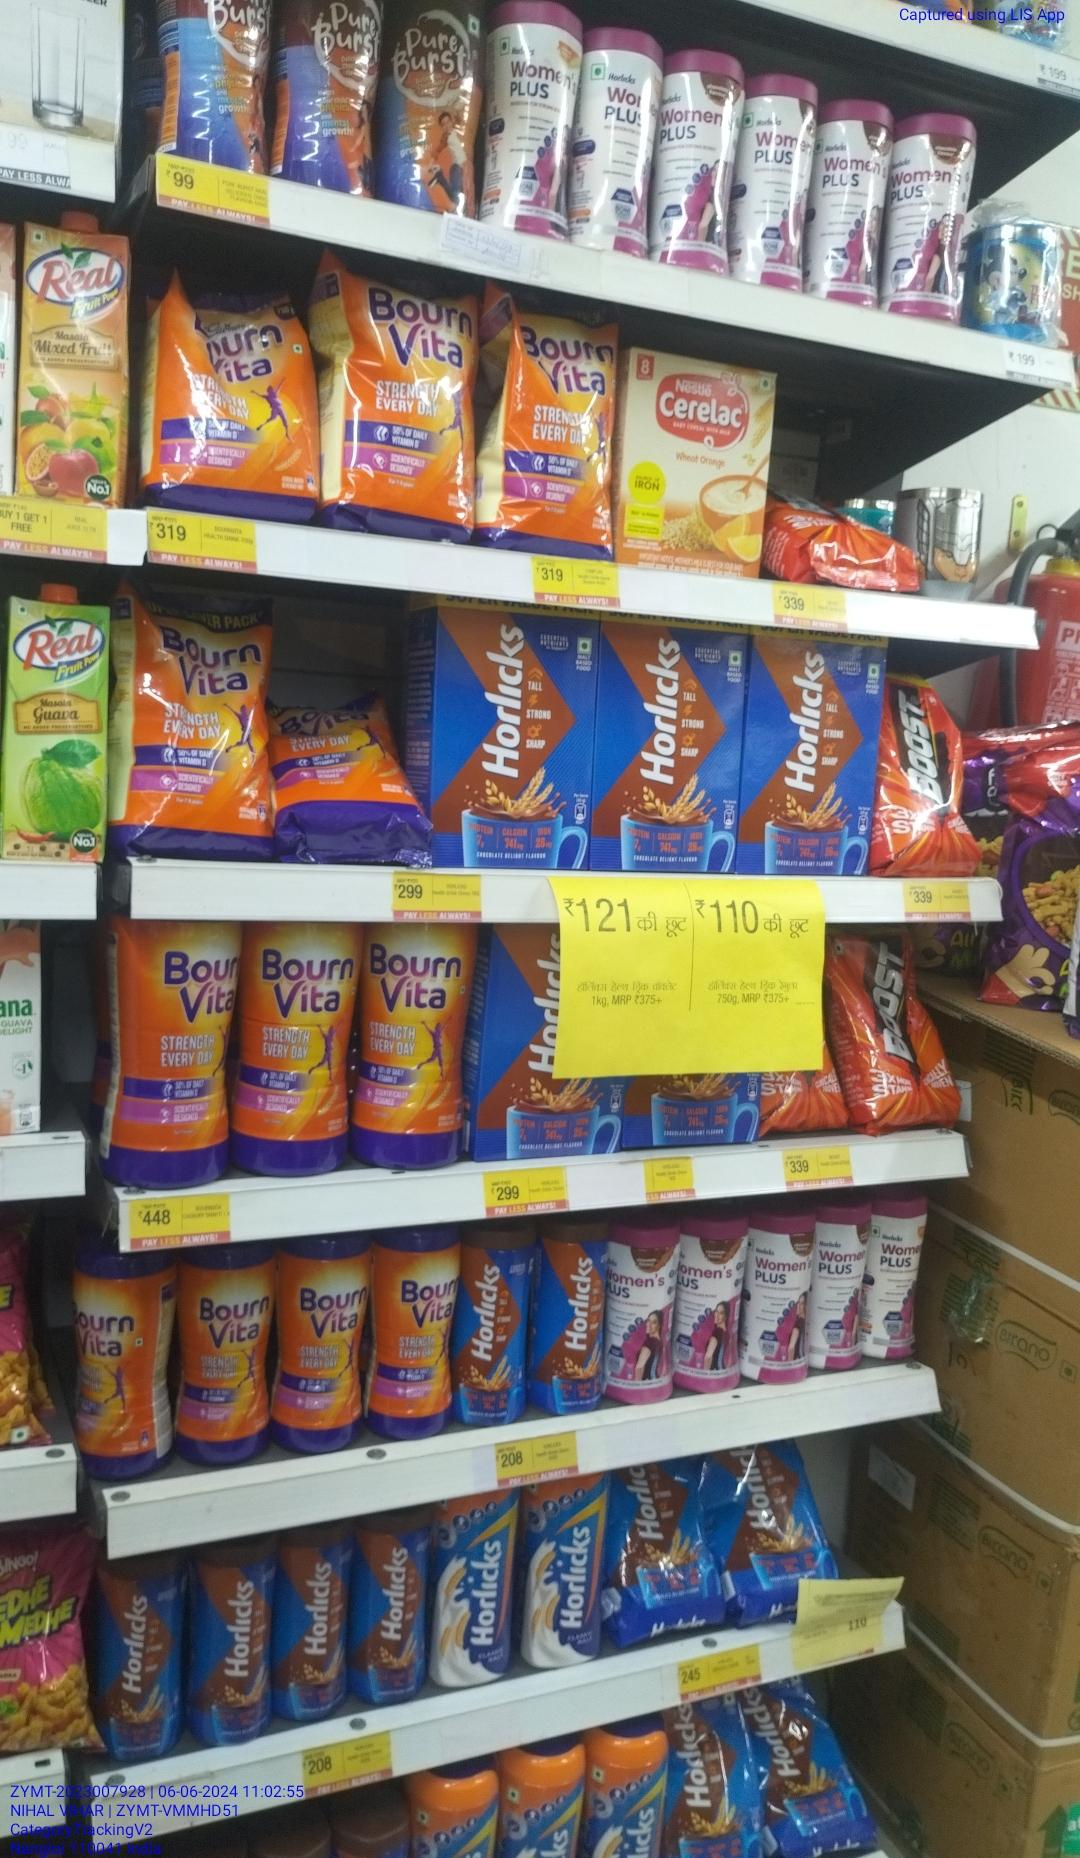HORLICK_CLASSIC_MALT_500_G_JAR: (436, 1485, 522, 1695), (523, 1476, 611, 1672)
